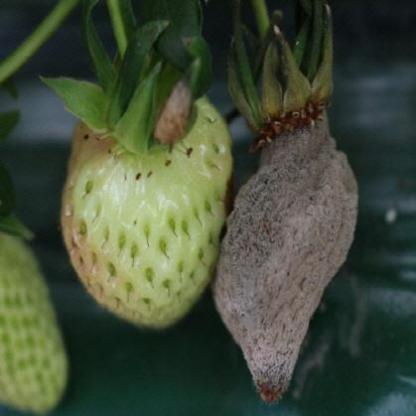Strawberry_Gray_Mold: (210, 97, 360, 404)
